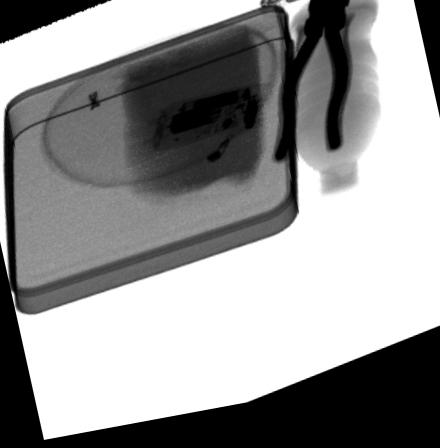Pliers: (271, 0, 357, 174)
